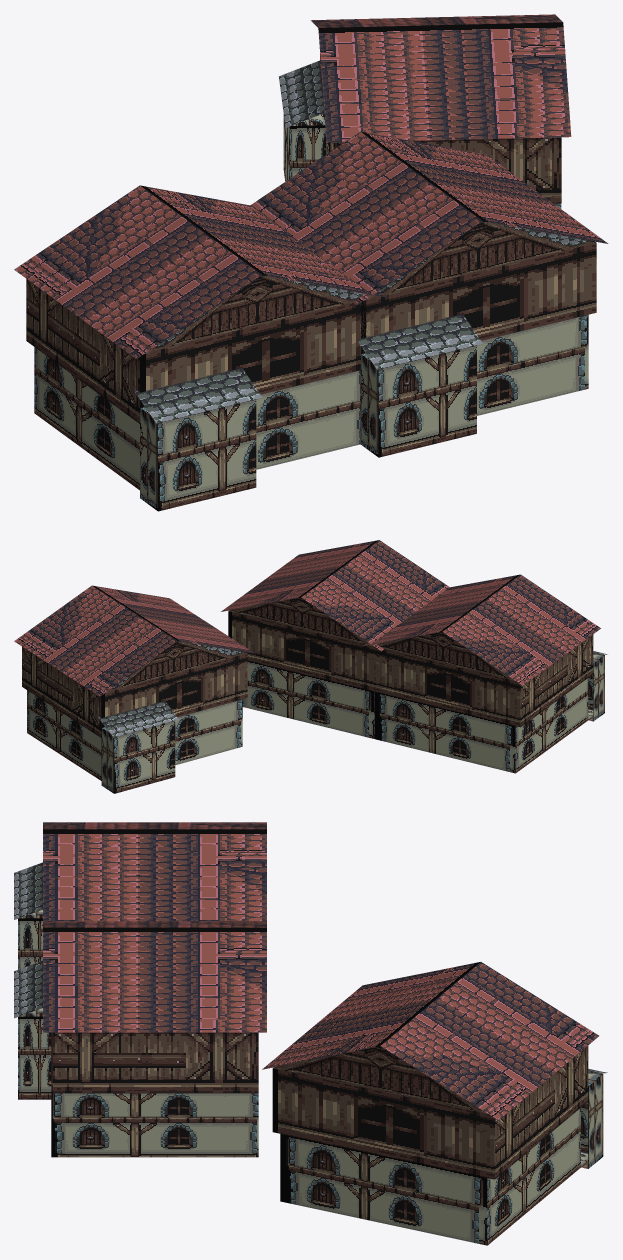
The model's file is house_small_cluster.glb.
3 renders of one model, top to bottom at view 1: azimuth 30°, elevation 25°; view 2: azimuth 150°, elevation 25°; view 3: azimuth 270°, elevation 25°, orthographic. The views are drawn at different scales.
Parts seen in each view (by area): view 1: House_RoofRight.002, House_RoofLeft.001, House_RoofLeft, House_Upper_Front, House_Upper_Front.001, House_Porch, House_Porch.001, House_RoofRight, House_Ground_Front, House_Ground_Front.001, House_RoofRight.001, House_Upper_Left.001 (+9 smaller); view 2: House_RoofLeft.002, House_RoofLeft.001, House_RoofLeft, House_Ground_Back.001, House_Upper_Back, House_Upper_Back.001, House_Ground_Back, House_Upper_Front.002, House_Porch.002, House_RoofRight, House_RoofRight.002, House_Upper_Left.002 (+10 smaller); view 3: House_RoofRight, House_RoofRight.001, House_RoofLeft.002, House_Upper_Back.002, House_Ground_Back.002, House_Ground_Right, House_Upper_Right, House_RoofRight.002, House_Ground_Left.002, House_Upper_Left.002, House_GableBack.002, House_Porch (+6 smaller).
Part boxes in pixels (box(x1,y1,x2,y2)): House_RoofRight.002: box(318, 22, 571, 142); House_RoofLeft.001: box(14, 185, 261, 359); House_RoofLeft: box(250, 131, 482, 305); House_Upper_Front: box(360, 243, 596, 353); House_Upper_Front.001: box(140, 297, 375, 407); House_Porch: box(360, 345, 476, 457); House_Porch.001: box(140, 399, 256, 511); House_RoofRight: box(361, 131, 608, 243); House_Ground_Front: box(477, 314, 588, 415); House_Ground_Front.001: box(256, 370, 360, 469); House_RoofRight.001: box(140, 185, 387, 297); House_Upper_Left.001: box(26, 279, 139, 423); House_RoofLeft.002: box(14, 585, 177, 696); House_RoofLeft.001: box(442, 574, 600, 685); House_RoofLeft: box(301, 540, 449, 651); House_Ground_Back.001: box(374, 692, 515, 773); House_Upper_Back: box(228, 611, 379, 692); House_Upper_Back.001: box(379, 649, 520, 727); House_Ground_Back: box(242, 661, 374, 738); House_Upper_Front.002: box(101, 653, 247, 727); House_Porch.002: box(101, 720, 175, 793); House_RoofRight: box(221, 540, 378, 611); House_RoofRight.002: box(92, 585, 254, 653); House_Upper_Left.002: box(22, 646, 101, 737); House_RoofRight: box(43, 927, 266, 1032); House_RoofRight.001: box(43, 829, 266, 921); House_RoofLeft.002: box(380, 962, 598, 1120); House_Upper_Back.002: box(272, 1068, 494, 1179); House_Ground_Back.002: box(280, 1134, 487, 1245); House_Ground_Right: box(51, 1093, 258, 1157); House_Upper_Right: box(51, 1032, 258, 1093); House_RoofRight.002: box(262, 962, 480, 1069); House_Ground_Left.002: box(487, 1108, 580, 1245); House_Upper_Left.002: box(495, 1046, 588, 1178); House_GableBack.002: box(273, 1046, 488, 1114); House_Porch: box(18, 1008, 51, 1099).
Bounding box in the file's own units: 16.98 × 4.81 × 14.34.
3 materials, 3 textured.
